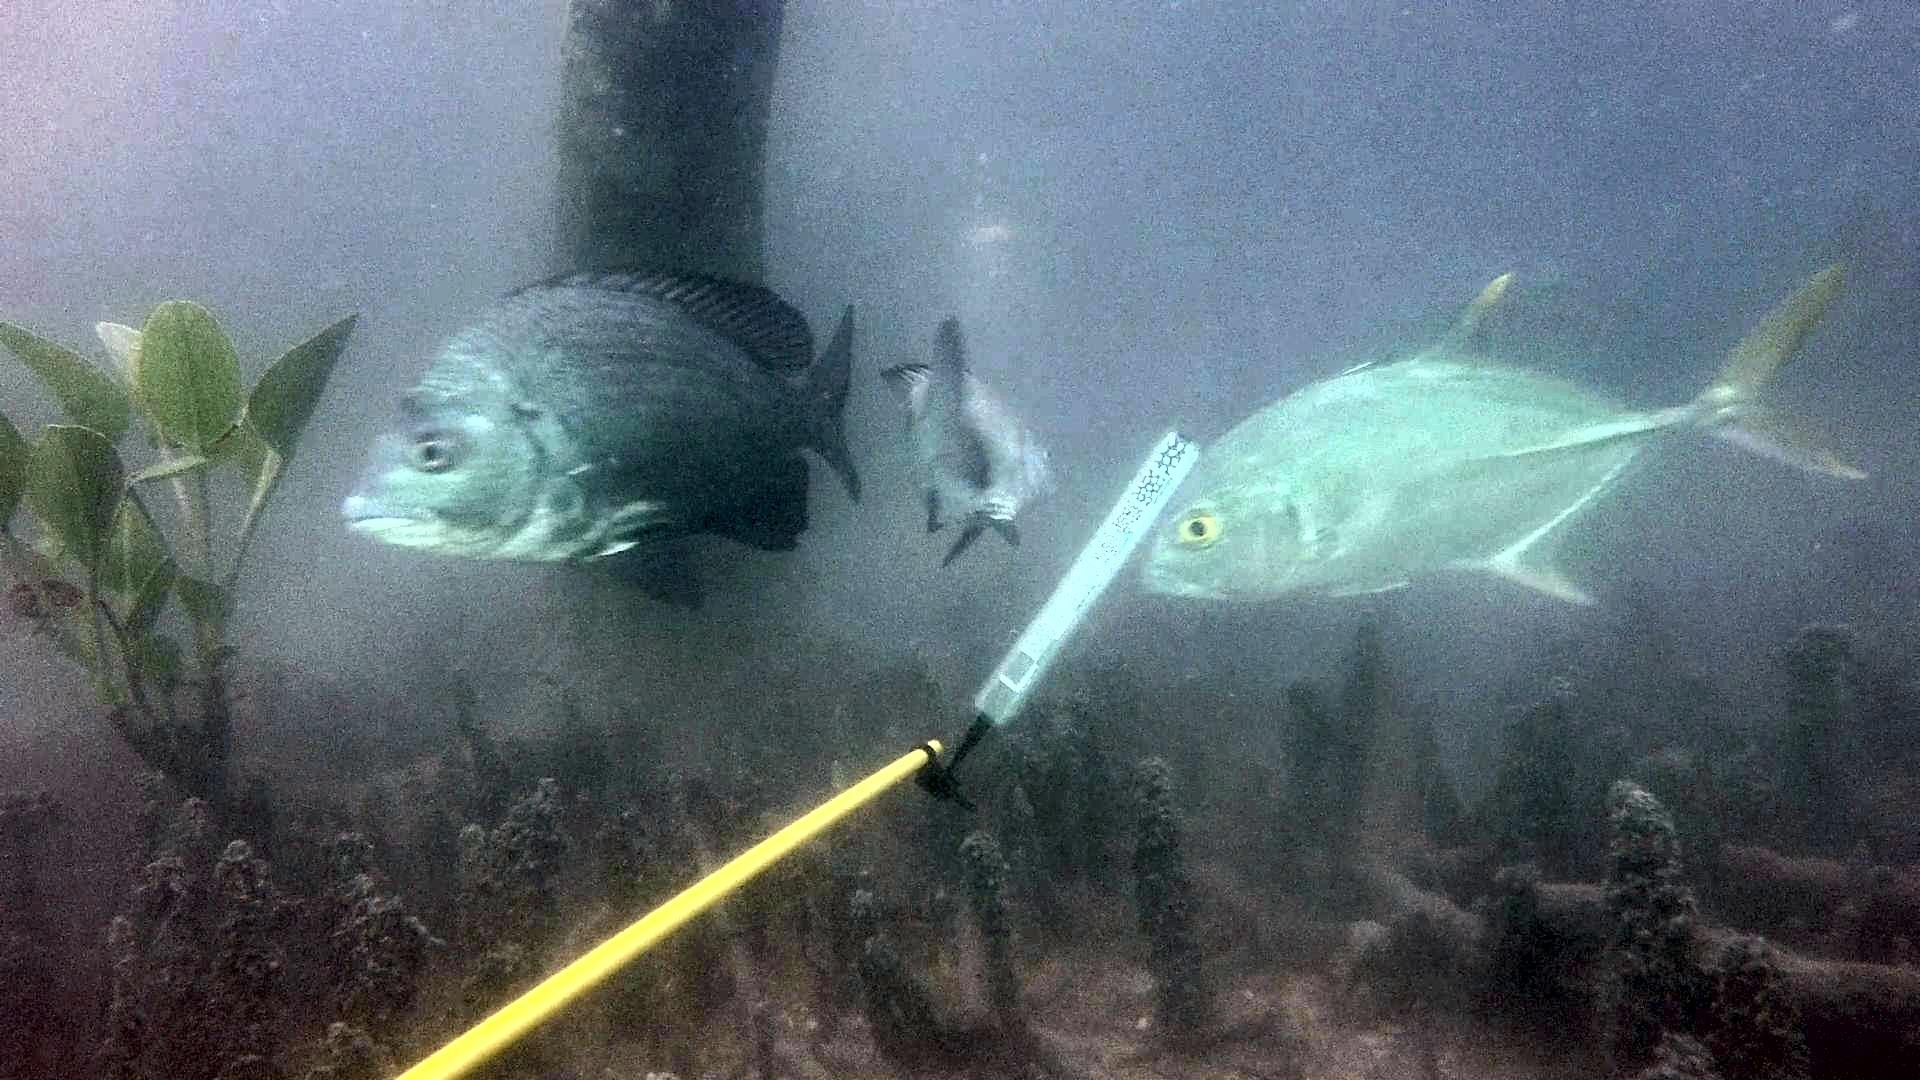acanthopagrus palmaris: (345, 233, 862, 600), (884, 298, 1060, 580)
caranx: (1146, 248, 1891, 624)
